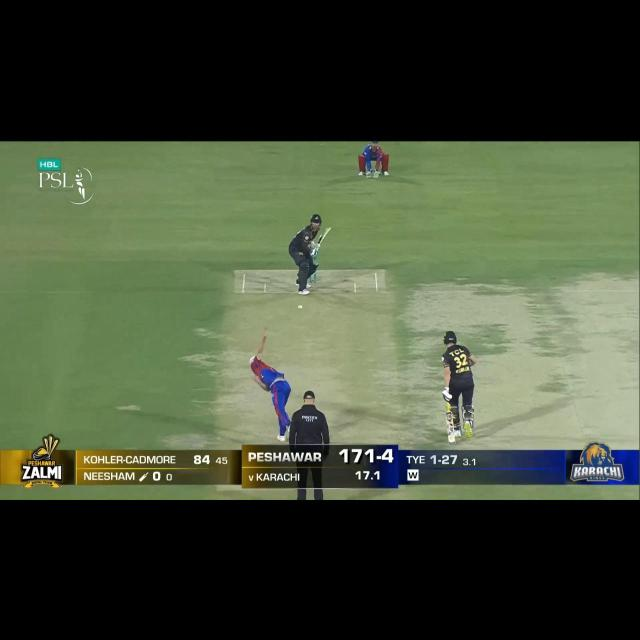bat: (316, 225, 333, 248), (446, 414, 457, 445)
toe: (322, 226, 331, 235), (448, 436, 455, 445)
